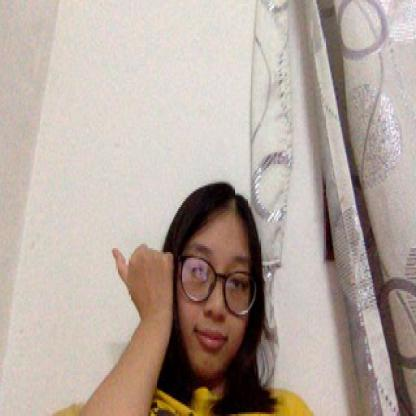right: (111, 240, 178, 324)
